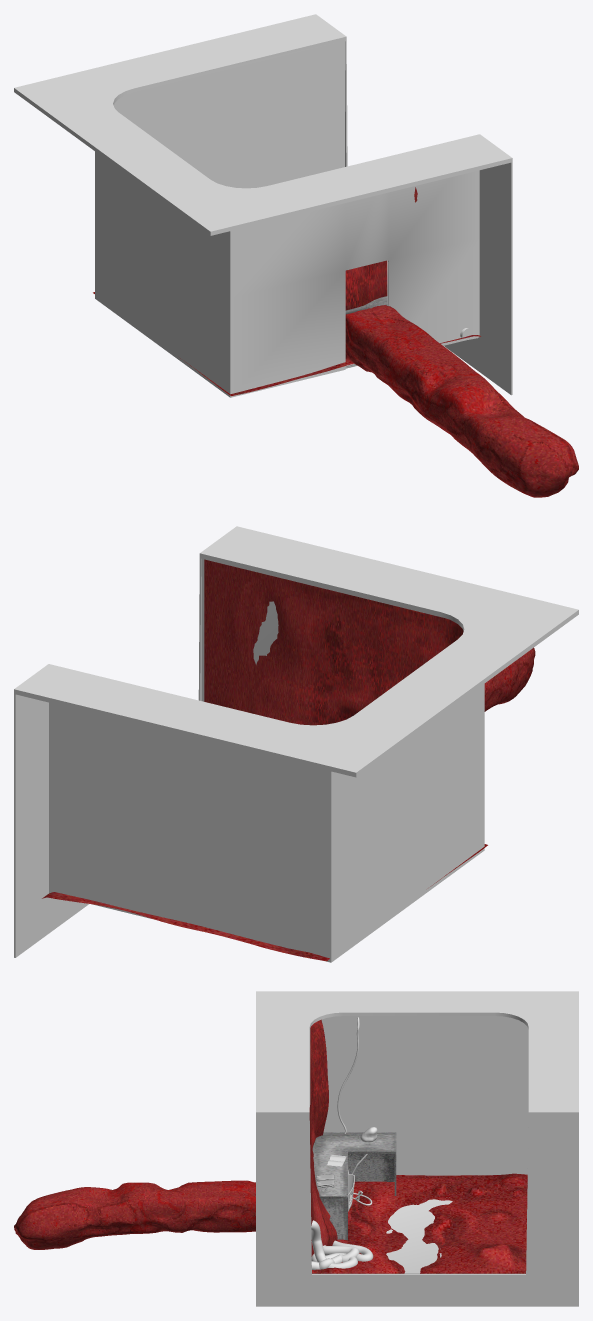
Rendered from PuzzleUnderDesk.fbx.
3 renders of one model, top to bottom at view 1: azimuth 30°, elevation 25°; view 2: azimuth 150°, elevation 25°; view 3: azimuth 270°, elevation 25°, orthographic. The views are drawn at different scales.
Parts seen in each view (by area): view 1: Room, Blocker, FleshTunnel, WallFlesh; view 2: Room, Blocker, WallFlesh, FleshTunnel, FleshGround; view 3: Blocker, Room, FleshGround, FleshTunnel, Cupboards, WallFlesh, BezierCurve.001, BezierCurve.
Boxes of the visible parts, left/top/right/bottom form: Room: left=95, top=41, right=479, bottom=397; Blocker: left=14, top=14, right=512, bottom=395; FleshTunnel: left=345, top=305, right=578, bottom=497; WallFlesh: left=345, top=187, right=417, bottom=310; Room: left=49, top=558, right=484, bottom=962; Blocker: left=14, top=526, right=578, bottom=957; WallFlesh: left=204, top=559, right=463, bottom=725; FleshTunnel: left=484, top=647, right=535, bottom=711; FleshGround: left=42, top=844, right=487, bottom=961; Blocker: left=256, top=991, right=578, bottom=1306; Room: left=309, top=1016, right=528, bottom=1273; FleshGround: left=312, top=1173, right=527, bottom=1273; FleshTunnel: left=14, top=1180, right=255, bottom=1249; Cupboards: left=312, top=1132, right=396, bottom=1239; WallFlesh: left=309, top=1019, right=337, bottom=1256; BezierCurve.001: left=311, top=1220, right=373, bottom=1269; BezierCurve: left=337, top=1017, right=372, bottom=1205.
Bounding box in the file's own units: 1608 × 1205 × 3171.
